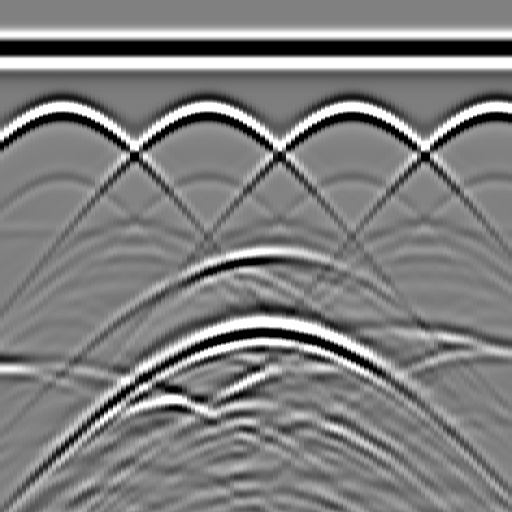grout_surface: (1, 217, 512, 247)
rebar: (41, 90, 81, 130), (185, 90, 225, 130), (329, 90, 369, 130), (473, 90, 512, 130)
rock_surface: (1, 329, 511, 403)
water_void: (233, 228, 293, 268)
